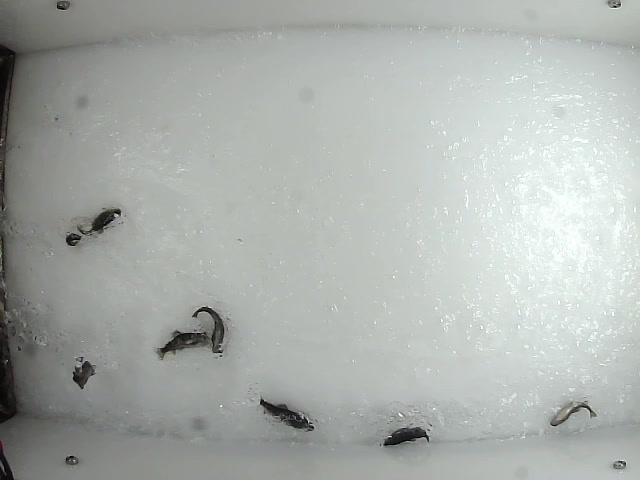fish: (254, 396, 317, 434), (154, 326, 213, 362), (192, 306, 227, 358), (77, 204, 122, 238), (548, 399, 597, 425), (379, 426, 430, 449), (70, 353, 96, 392), (66, 231, 90, 255)
